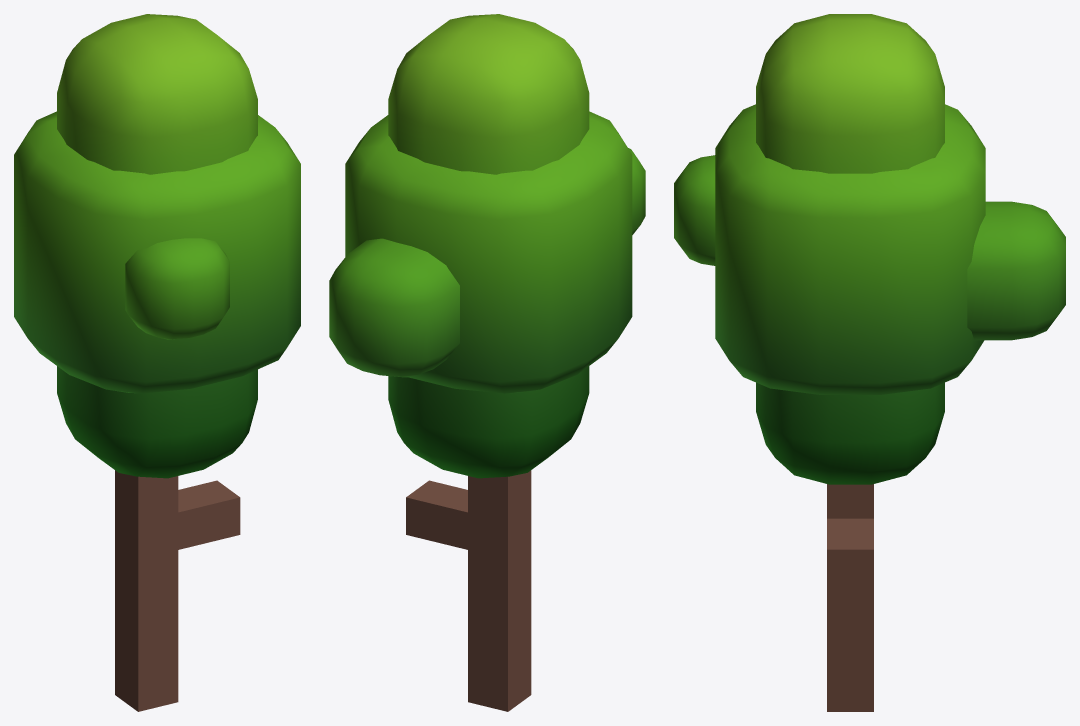
Rendered from Tree1.fbx.
3 views of the same model, side by side, from view 1: azimuth 30°, elevation 25°; view 2: azimuth 150°, elevation 25°; view 3: azimuth 270°, elevation 25° (orthographic).
Visible parts, largest first — view 1: Tree2; view 2: Tree2; view 3: Tree2.
Part boxes in pixels (x1,y1,x2,y2): Tree2: (14, 14, 300, 711); Tree2: (329, 14, 645, 711); Tree2: (674, 14, 1065, 711).
Bounding box in the file's own units: 1.24 × 3.44 × 1.8.
